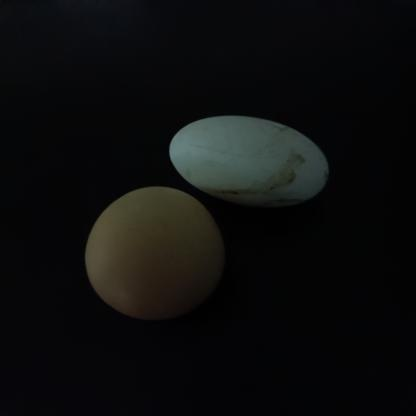egg: (74, 185, 233, 322), (152, 113, 342, 210)
